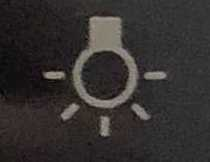light: (18, 6, 191, 153)
